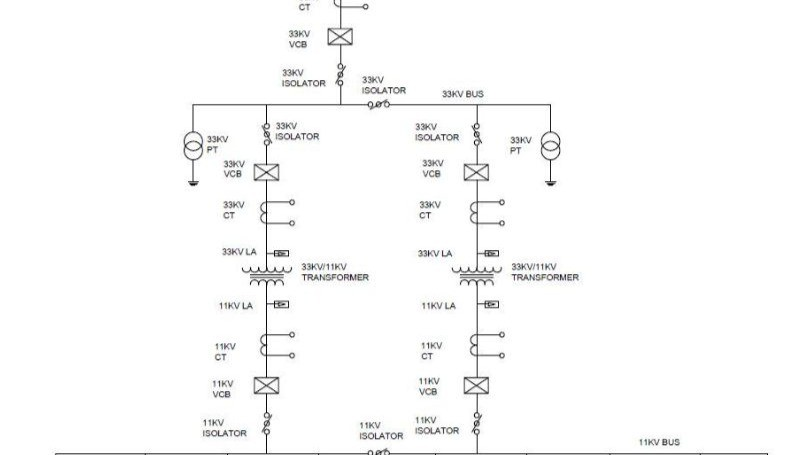ground: (179, 173, 206, 194), (539, 172, 563, 193)
transformer: (229, 258, 294, 291), (441, 260, 505, 293)
